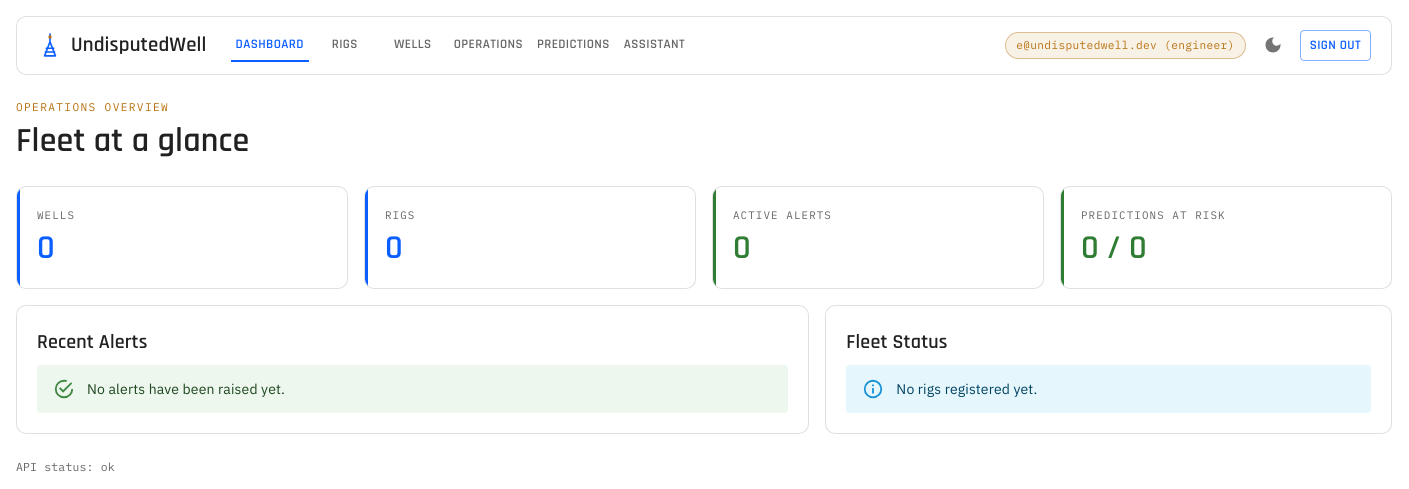
Scenario: Dashboard › shows a signing-out loading state while the logout request is in flight
This screenshot has width=1409, height=489.
Click the button "Sign out": x=1335, y=45 [1300,30,1371,61]
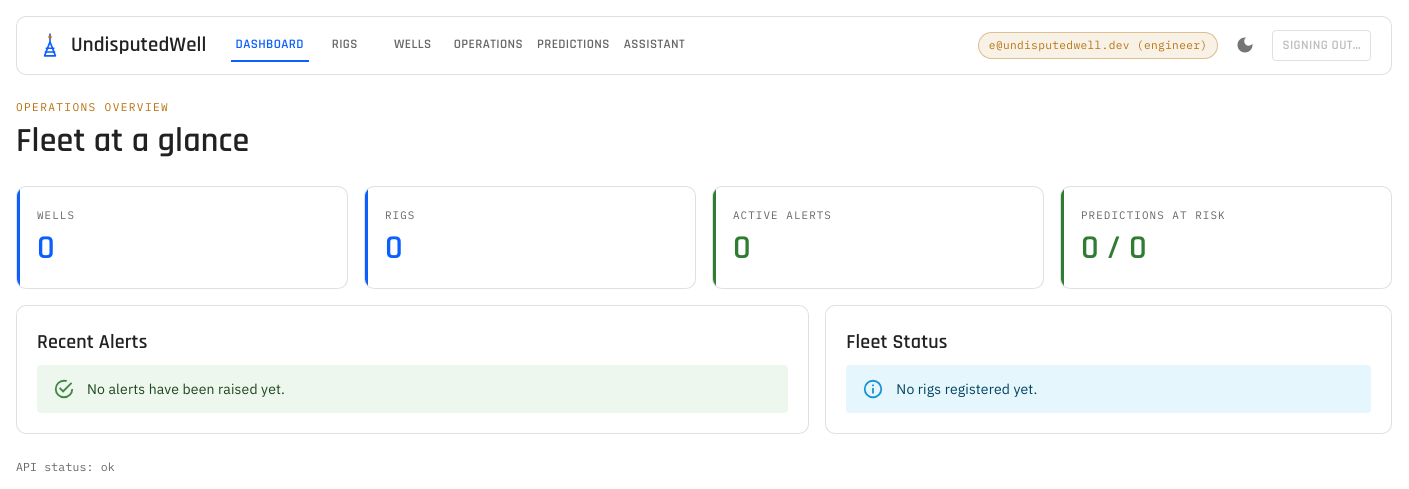
Expected: the button "Signing out…" is disabled, [1272,30,1371,61]
